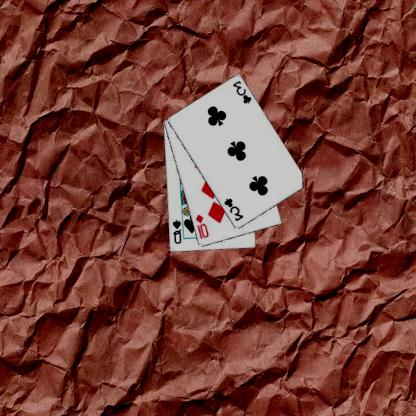10D: (194, 212, 212, 240)
3C: (223, 196, 246, 222), (232, 79, 254, 105)
QS: (172, 217, 184, 245)
